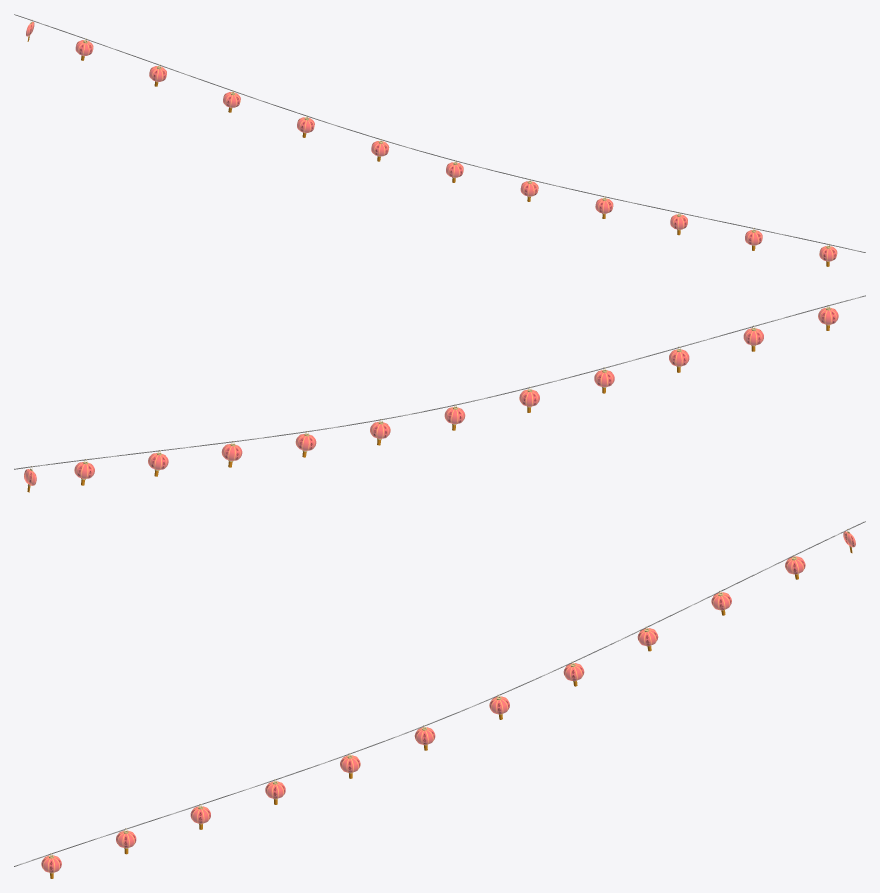
The model's file is SM_lamp_spline_Splines_40.fbx.
3 renders of one model, top to bottom at view 1: azimuth 90°, elevation 25°; view 2: azimuth 150°, elevation 25°; view 3: azimuth 330°, elevation 25°, orthographic. The views are drawn at different scales.
Visible parts, largest first — view 1: SM_lamp_spline_Splines_40; view 2: SM_lamp_spline_Splines_40; view 3: SM_lamp_spline_Splines_40.
Part boxes in pixels (left/top/right/bottom): SM_lamp_spline_Splines_40: left=14, top=14, right=865, bottom=266; SM_lamp_spline_Splines_40: left=14, top=295, right=865, bottom=492; SM_lamp_spline_Splines_40: left=14, top=521, right=865, bottom=878.
Size of the model in its own units: 1174 by 2602 by 328.
